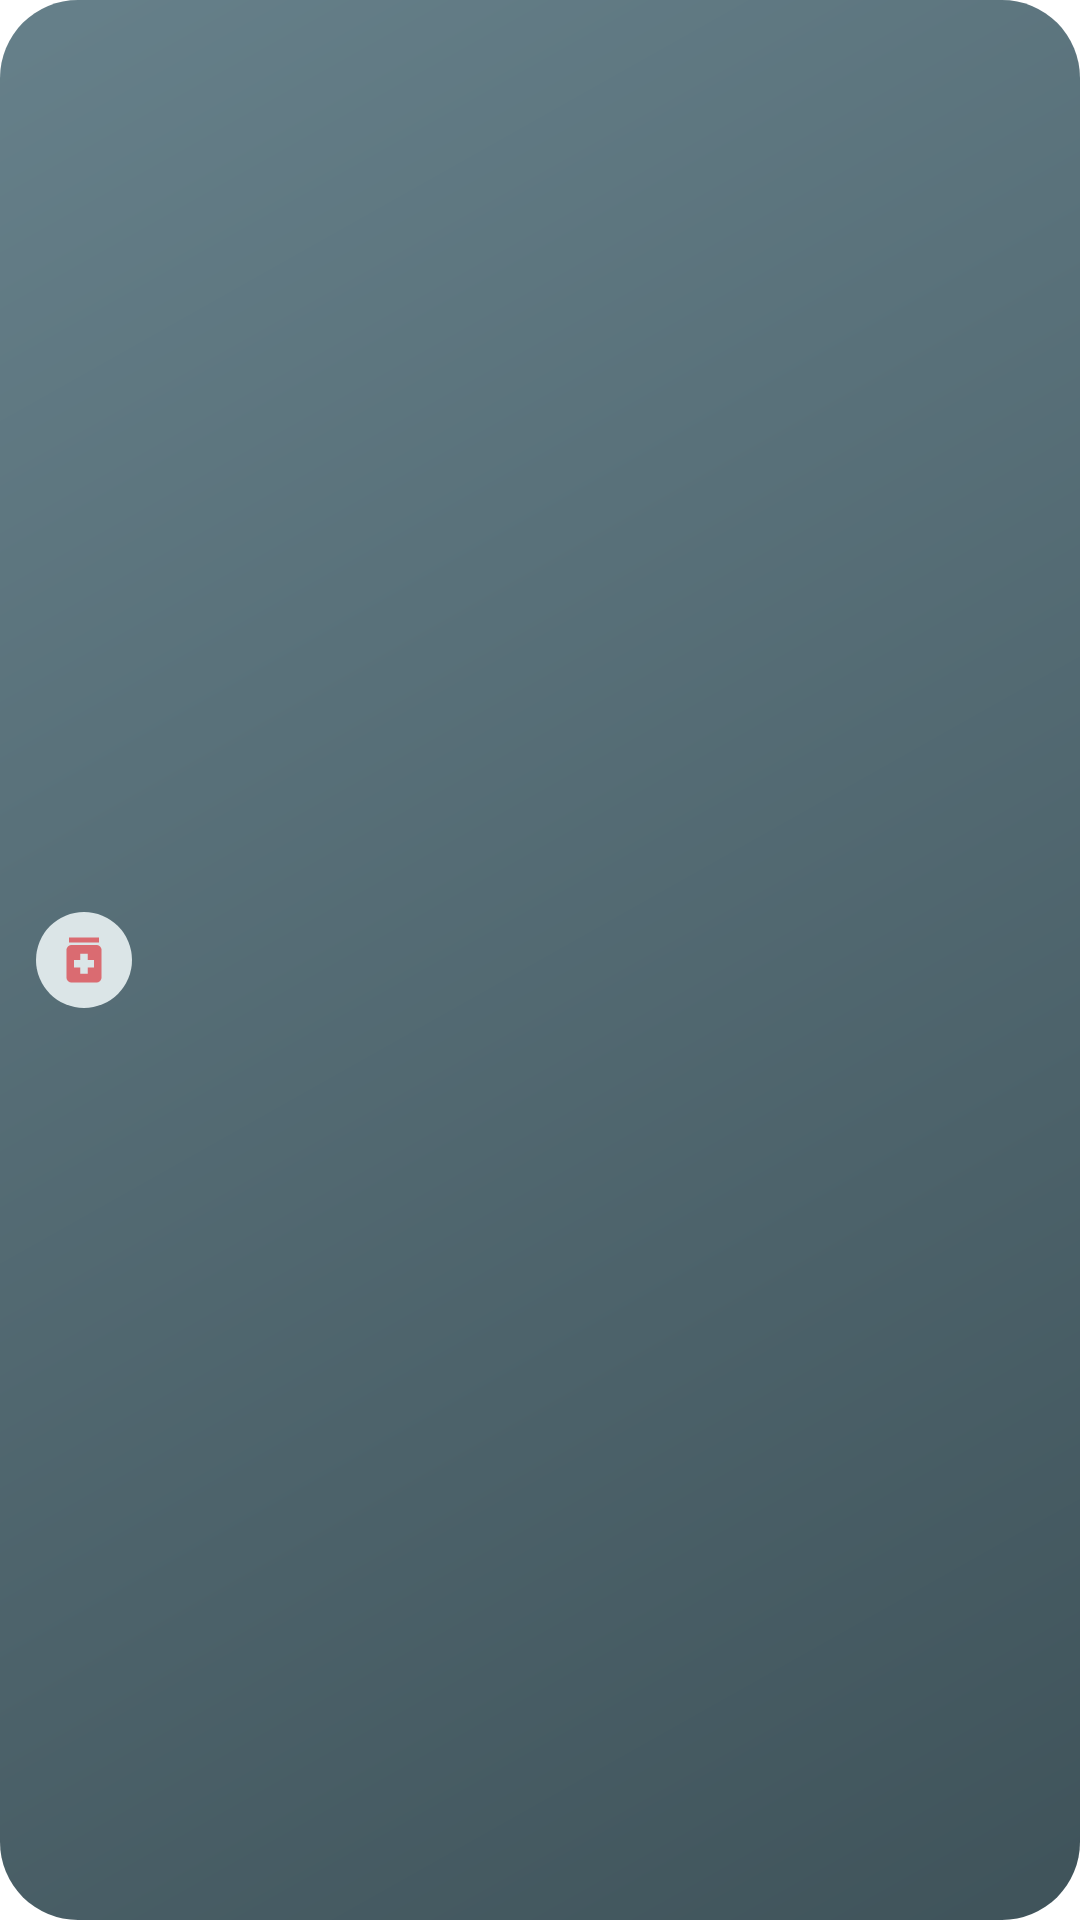

Where to tap for icons on this 1080 × 1920 app screen, as (x,y):
widget medication: (84,960)
